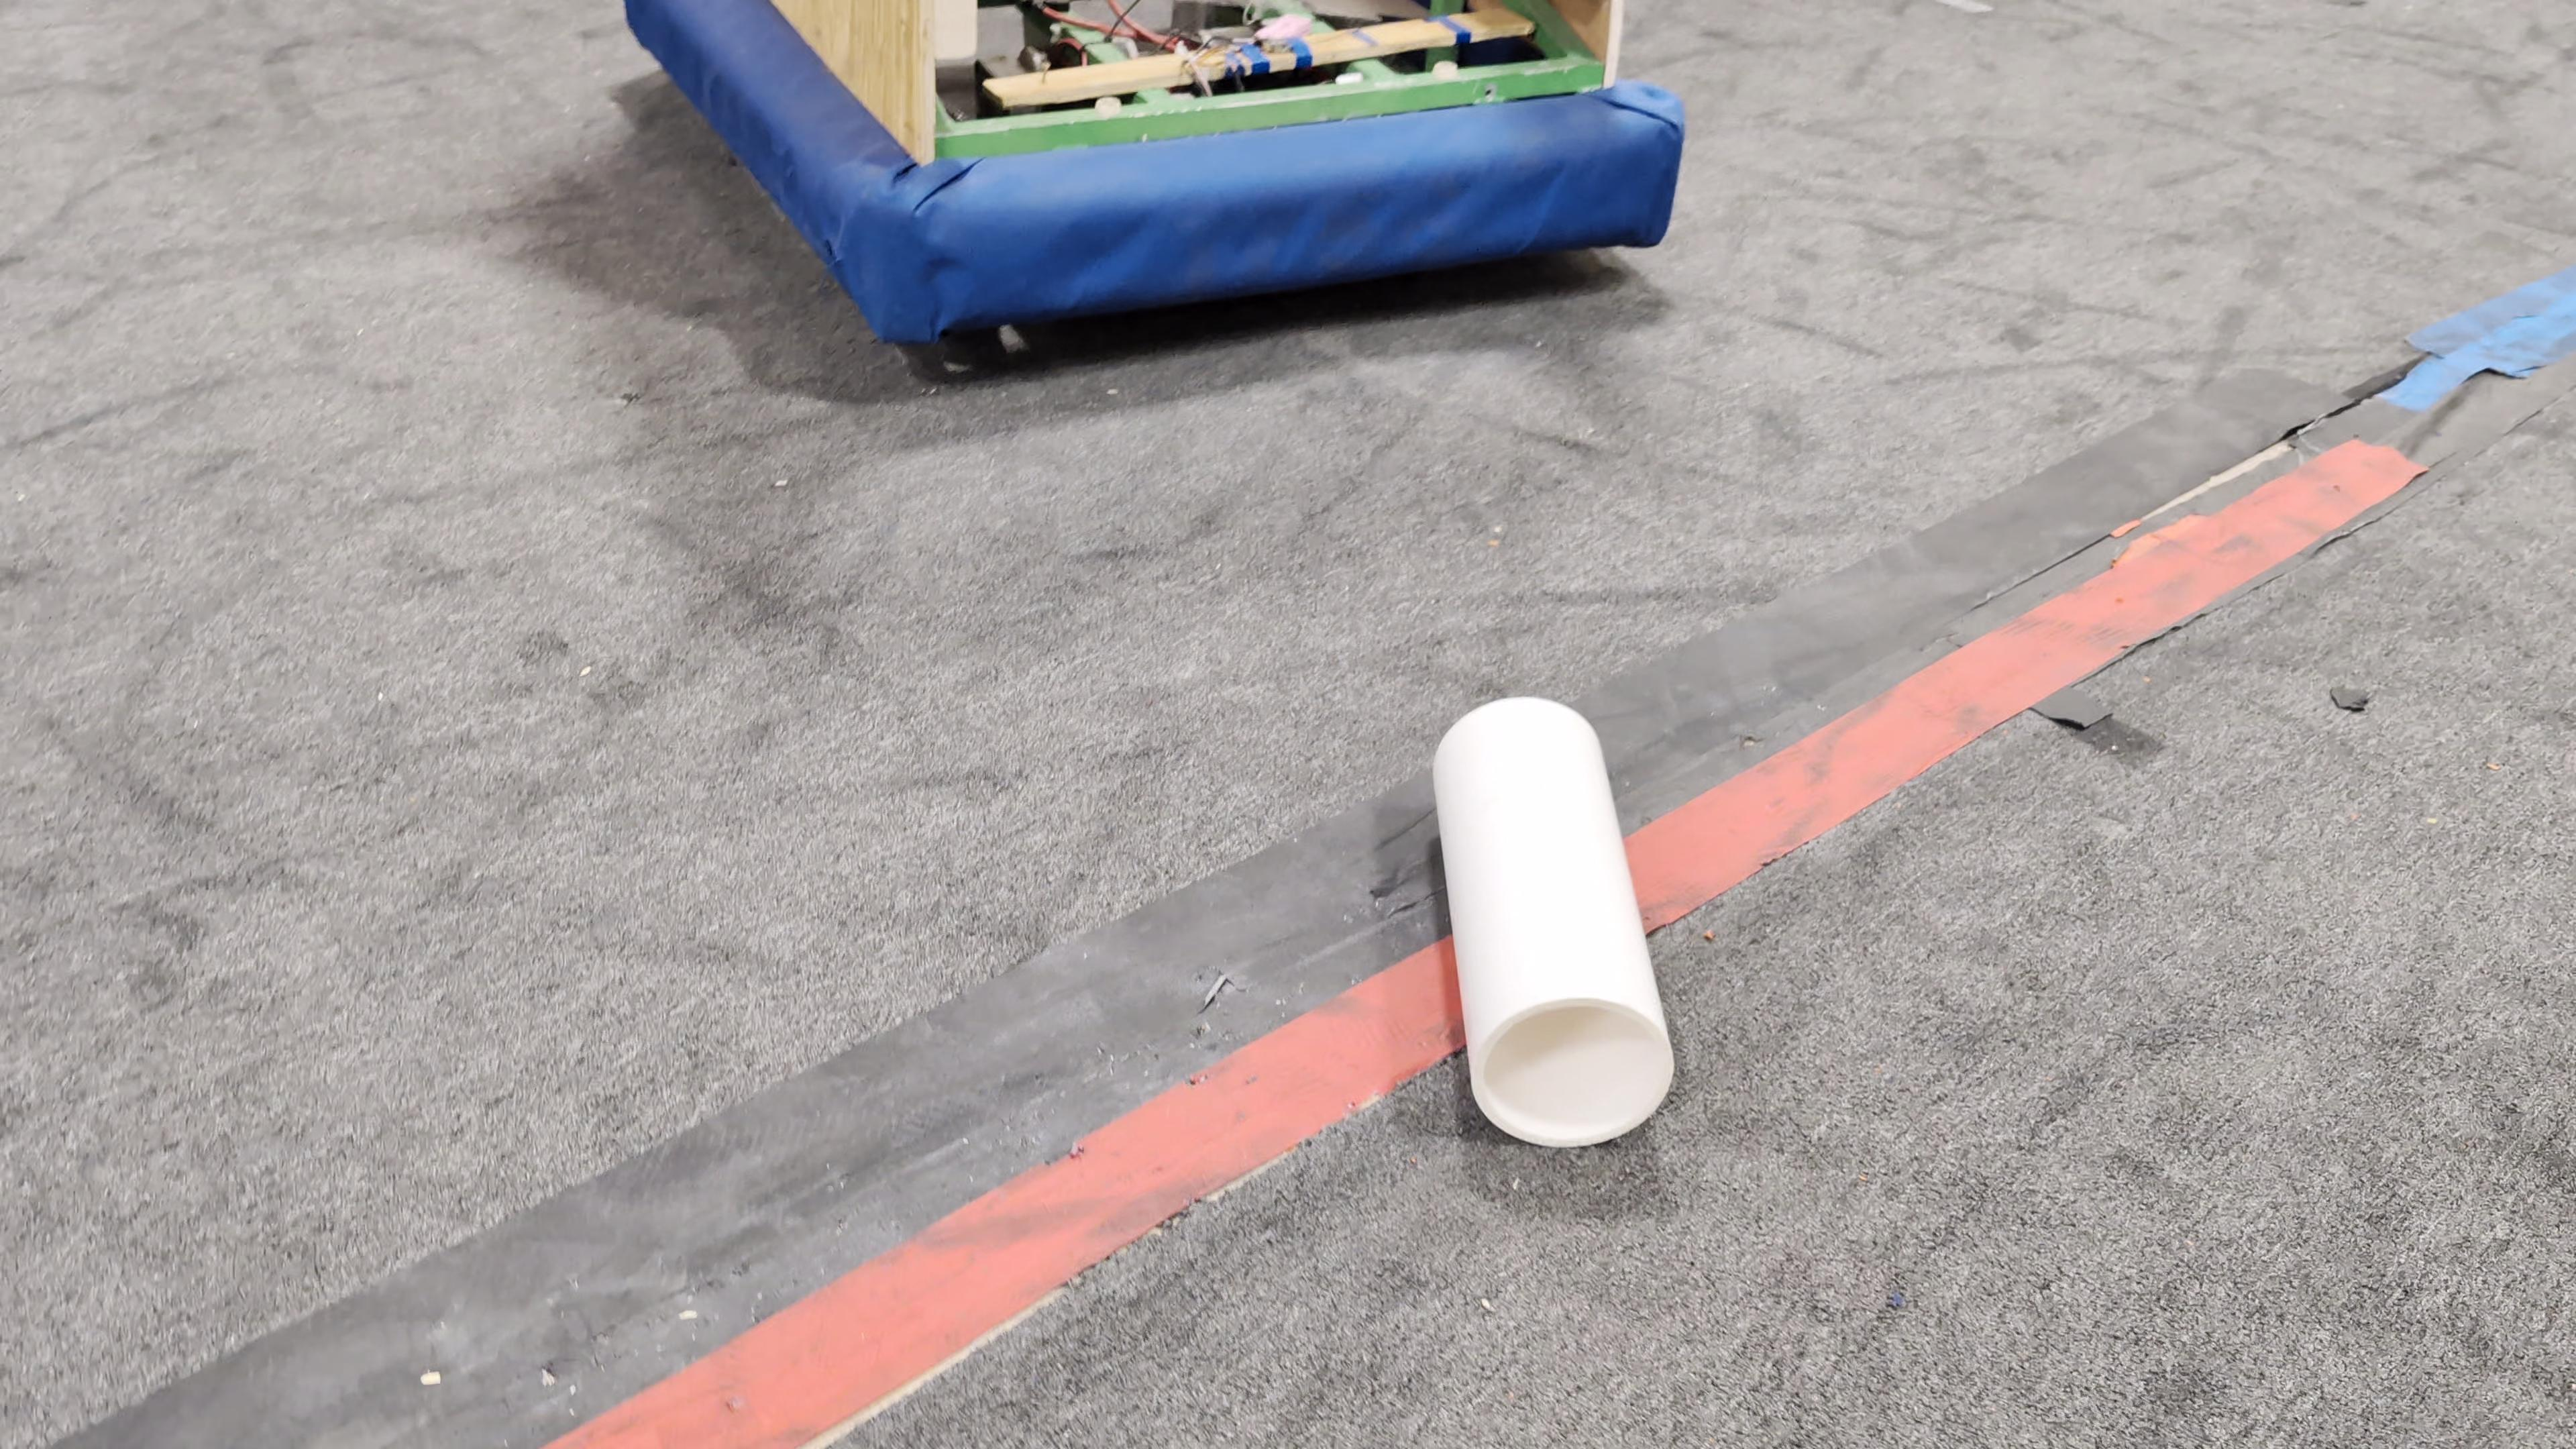coral: (1435, 695, 1674, 1148)
